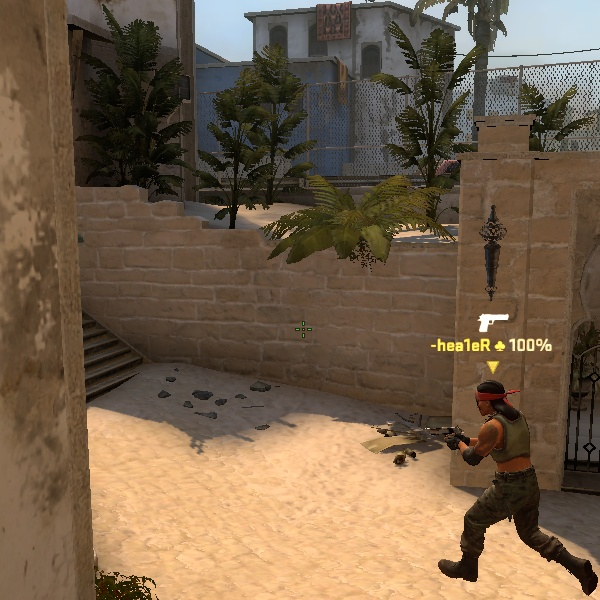t_body: (435, 377, 553, 585)
t_head: (467, 378, 513, 426)
